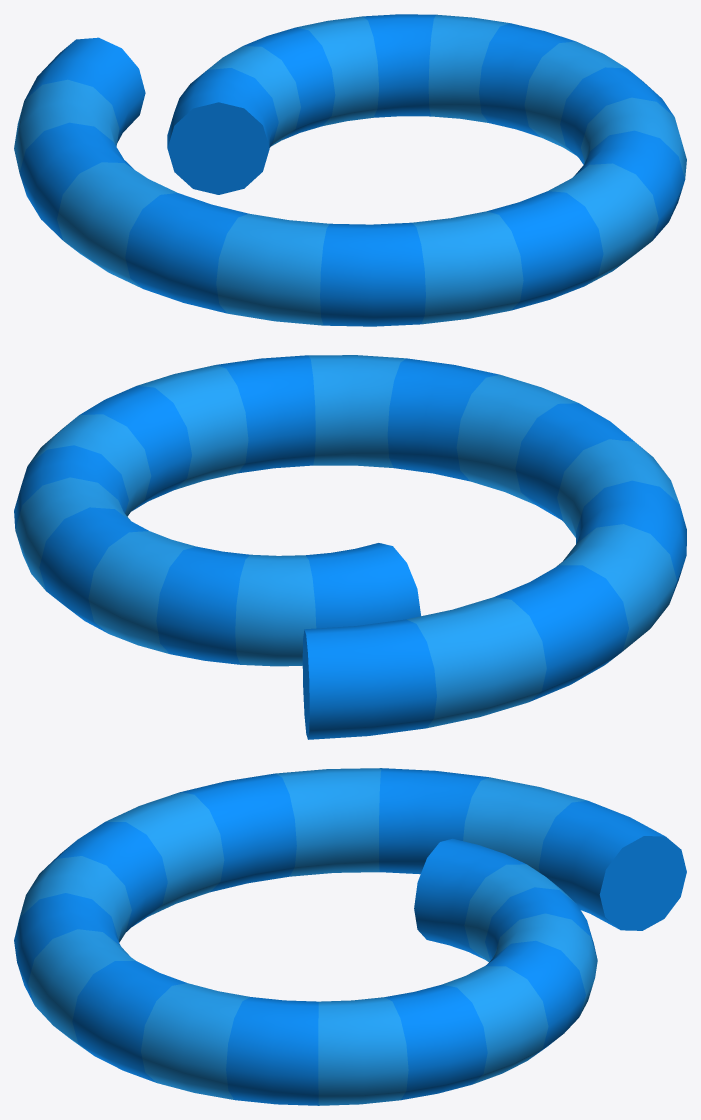
Rendered from cable.FBX.
3 views of the same model, one above another, from view 1: azimuth 30°, elevation 25°; view 2: azimuth 150°, elevation 25°; view 3: azimuth 270°, elevation 25° (orthographic). The views are drawn at different scales.
Visible parts, largest first — view 1: Object008; view 2: Object008; view 3: Object008.
Part boxes in pixels (x1,y1,x2,y2): Object008: (14,14,686,326); Object008: (14,355,686,739); Object008: (14,768,686,1105).
Size of the model in its own units: 75.95 by 12.48 by 77.25.
Materials: 1 (1 with a texture image).
